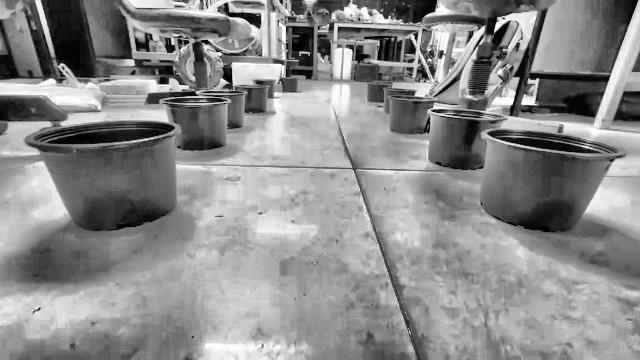pot: (26, 121, 180, 231), (481, 128, 626, 232), (428, 108, 507, 170), (160, 96, 230, 151), (84, 0, 130, 58), (196, 89, 246, 129), (234, 84, 269, 112)
